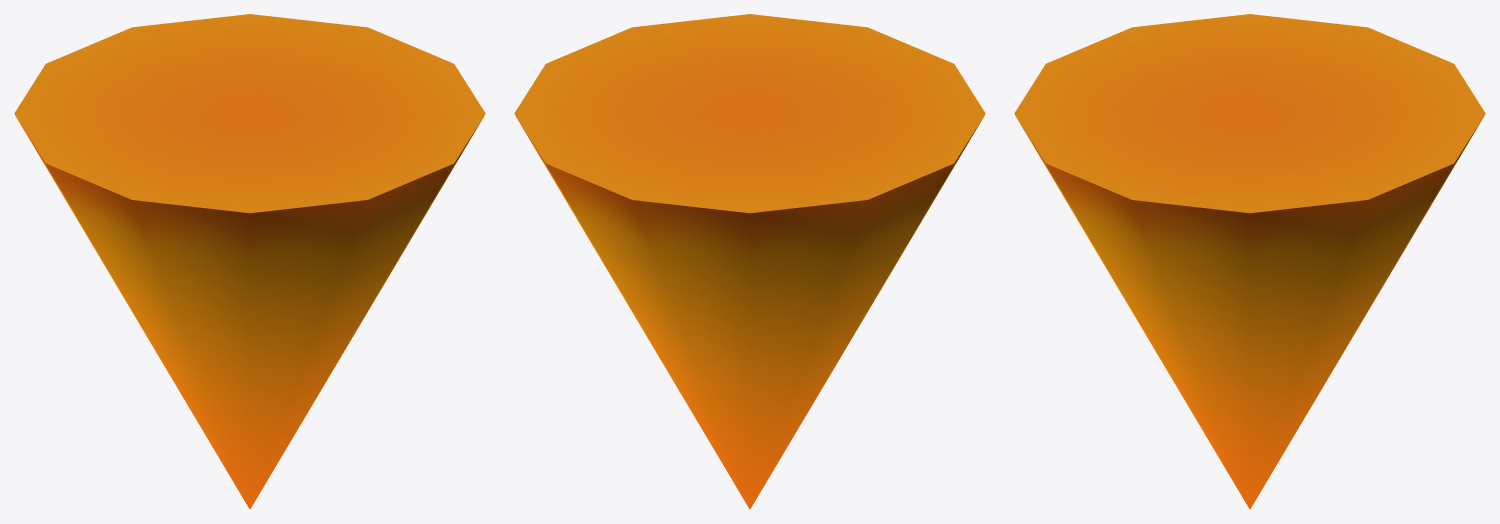
The picture shows the model from 3 angles, left to right: view 1: azimuth 30°, elevation 25°; view 2: azimuth 150°, elevation 25°; view 3: azimuth 270°, elevation 25°; orthographic projection.
Visible parts, largest first — view 1: DW; view 2: DW; view 3: DW.
Boxes of the visible parts, bbox=[...] form: DW: bbox=[14, 14, 485, 509]; DW: bbox=[514, 14, 985, 509]; DW: bbox=[1014, 14, 1485, 509].
Size of the model in its own units: 2.23 by 2.07 by 2.23.
